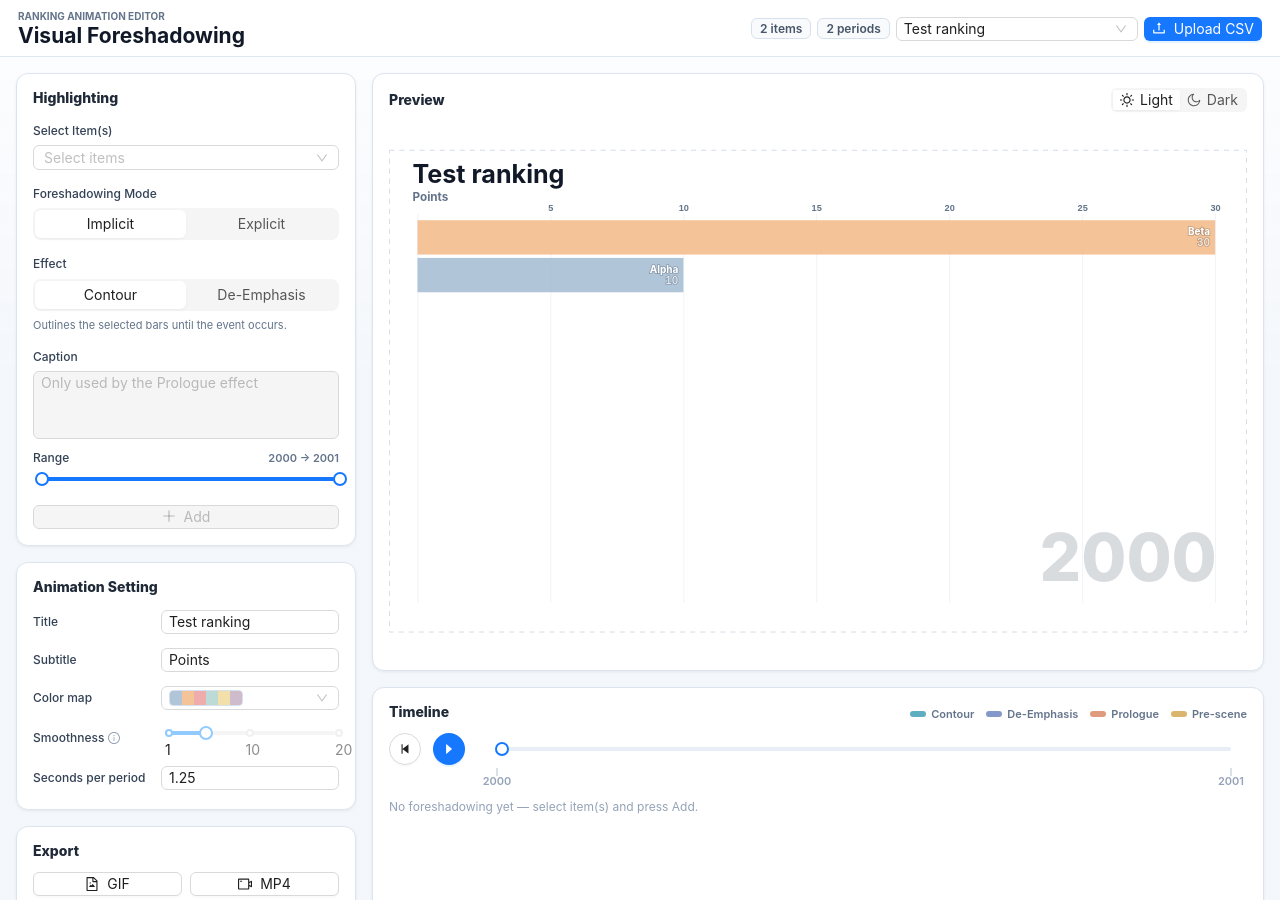
Test case: App › defaults to implicit mode and updates effect options when the mode changes
This screenshot has width=1280, height=900.
Expected: the text titled "De-Emphasis" is shown, [217,286,306,302]
Step 1. Click the text titled "Explicit" → click(262, 224), box [238,215,285,232]
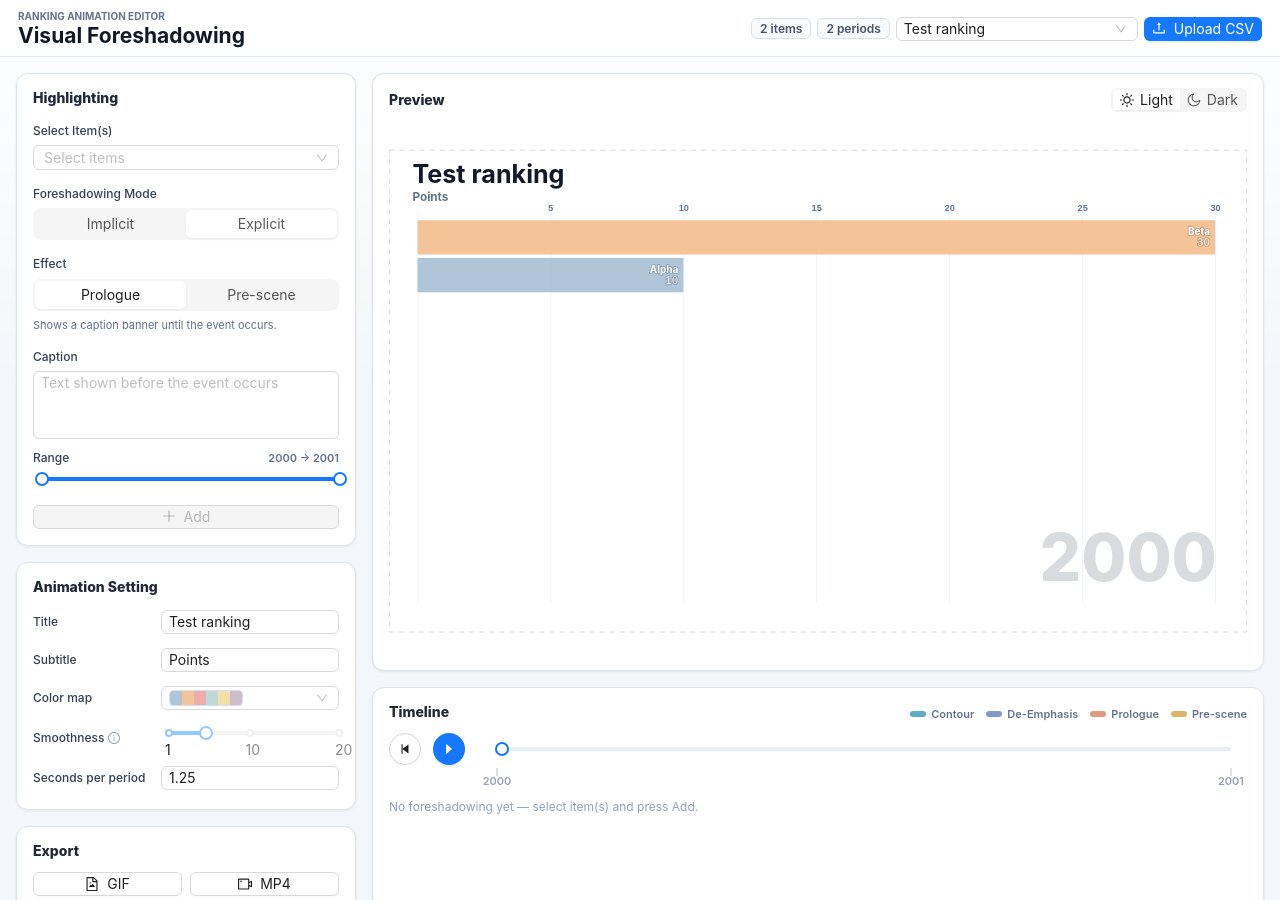
Result: the text titled "Pre-scene" is shown at [227,286,296,302]
